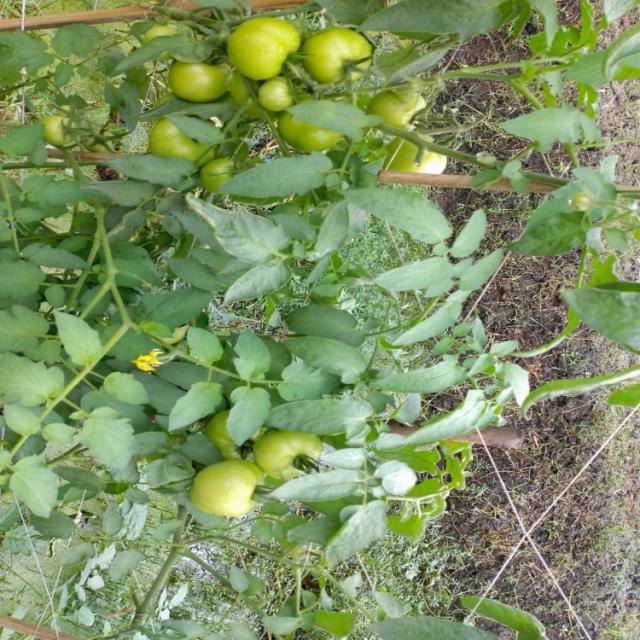tomato: (301, 15, 384, 93), (223, 14, 306, 81), (192, 456, 268, 526), (145, 121, 225, 172), (165, 60, 248, 108), (254, 426, 327, 480), (271, 116, 343, 163), (368, 77, 430, 121), (387, 140, 449, 176), (189, 154, 241, 190), (255, 77, 302, 113), (44, 113, 89, 146), (209, 418, 241, 454)
